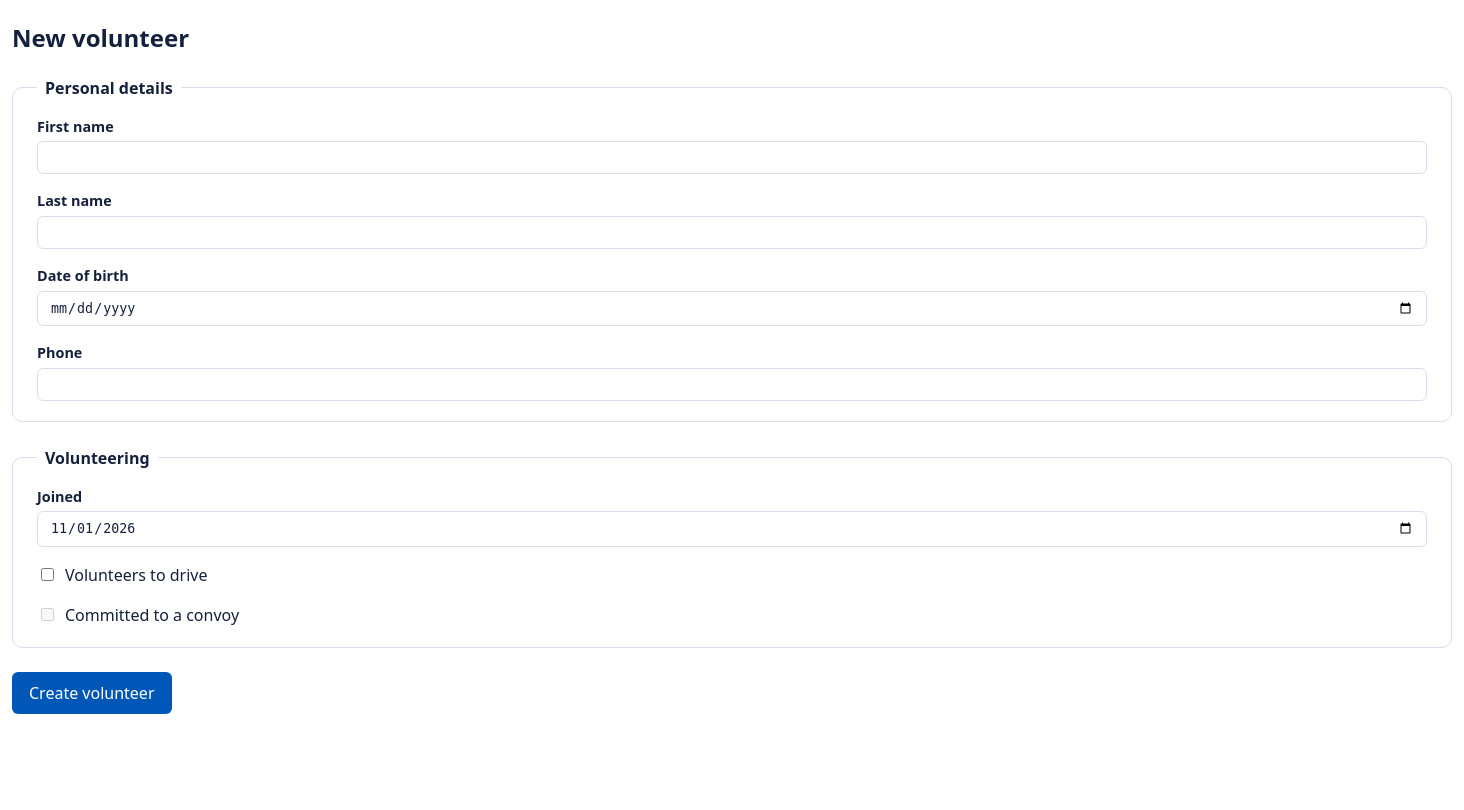
it: creates the volunteer and navigates to it
Type "Olena" into the field labelled "First name".
click(732, 158); type("Olena")  # box x1=37 y1=141 x2=1427 y2=174
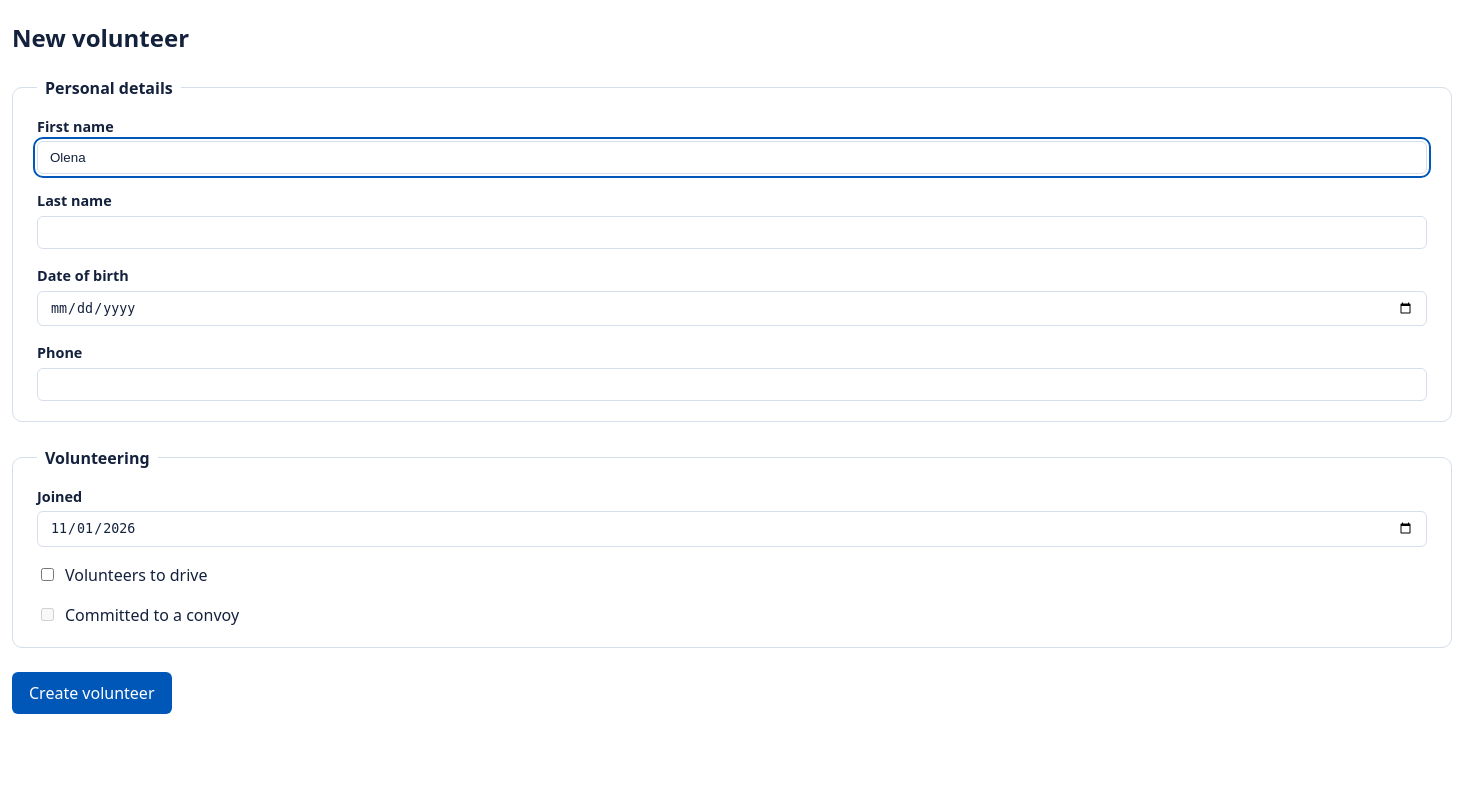
Type "Kovalenko" into the field labelled "Last name".
click(732, 232); type("Kovalenko")  # box x1=37 y1=216 x2=1427 y2=249
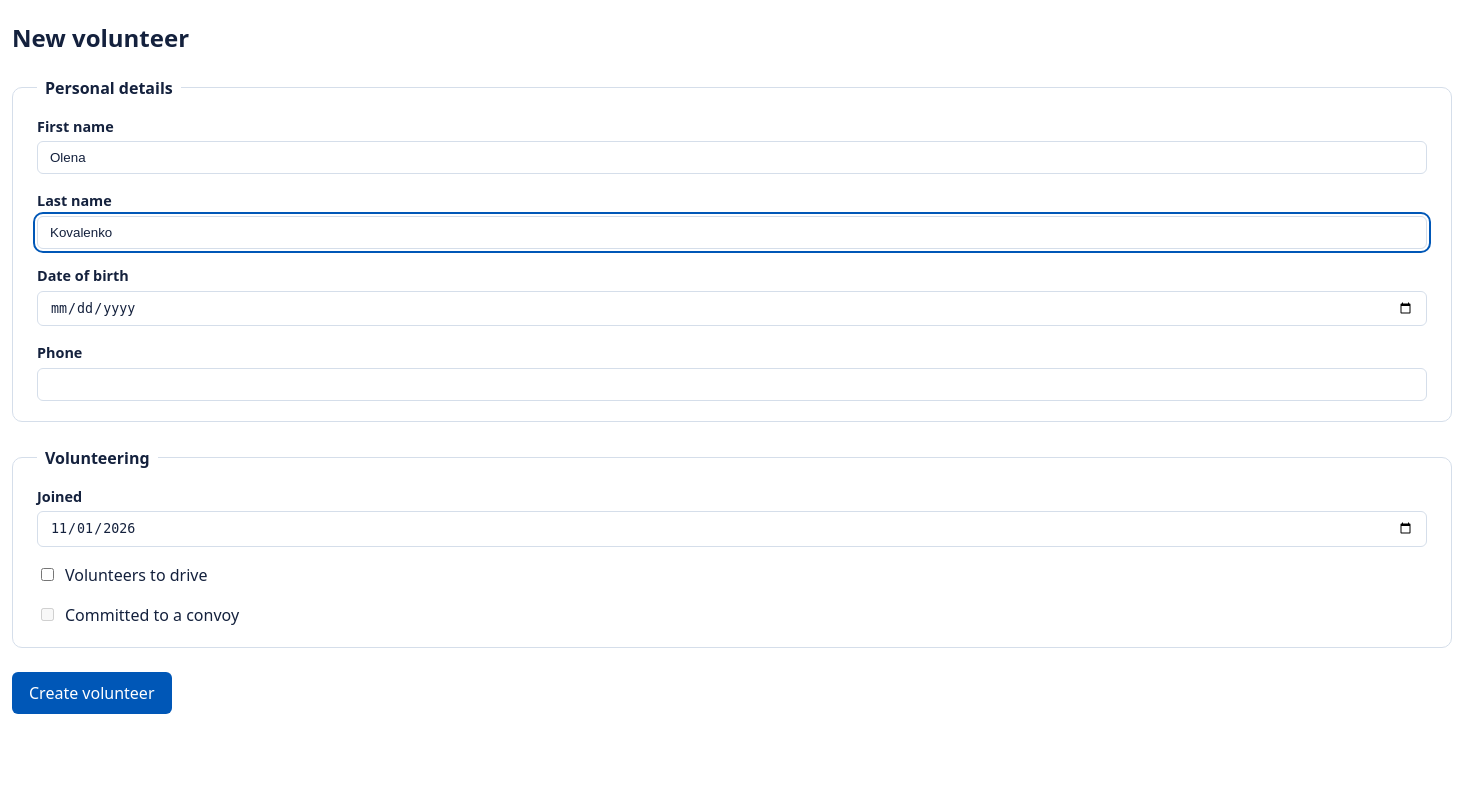
Type "1991-03-04" into the date field labelled "Date of birth".
click(732, 308); type("1991-03-04")  # box x1=37 y1=291 x2=1427 y2=326
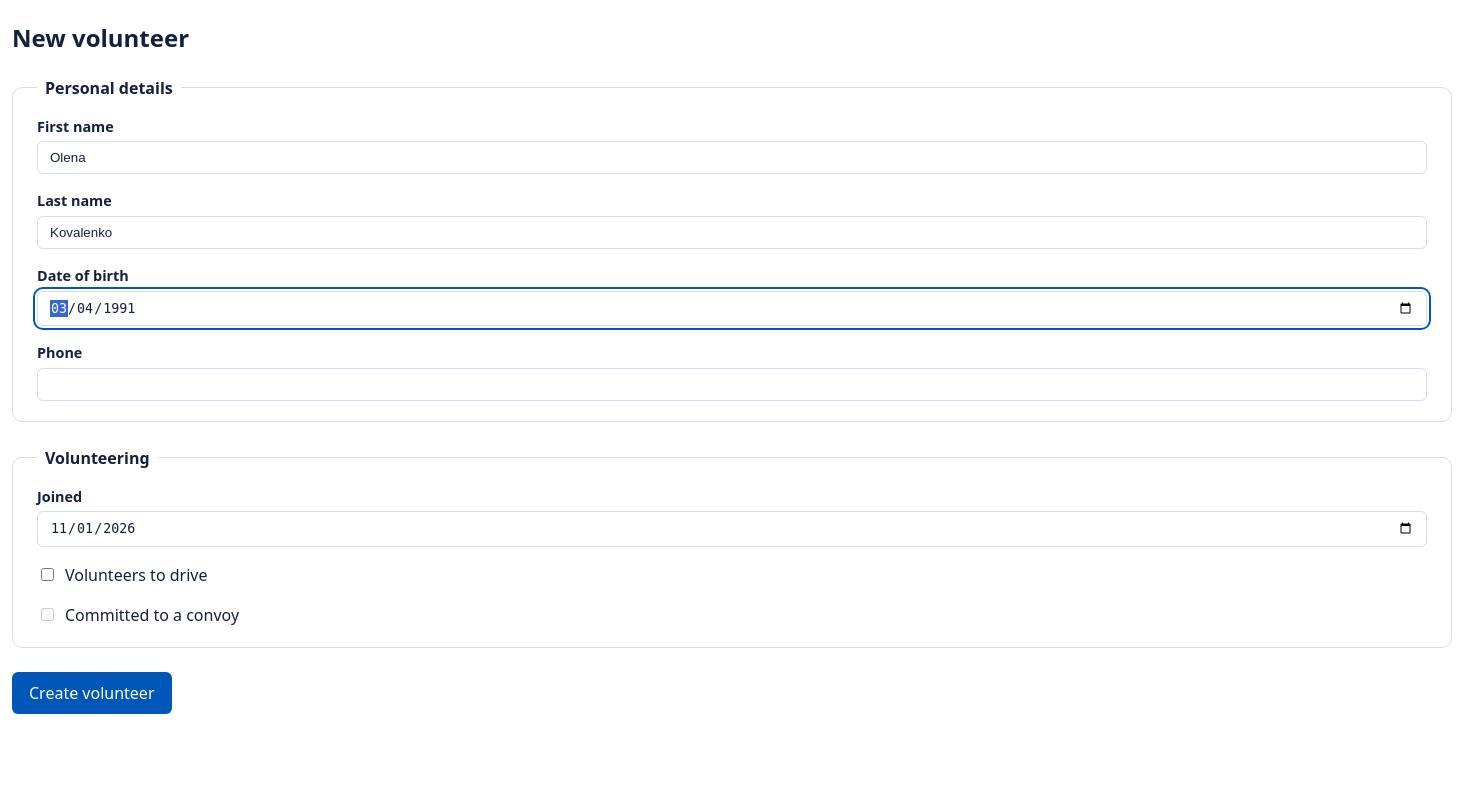
Click the button "Create volunteer".
click(92, 692)  # box x1=12 y1=672 x2=172 y2=714
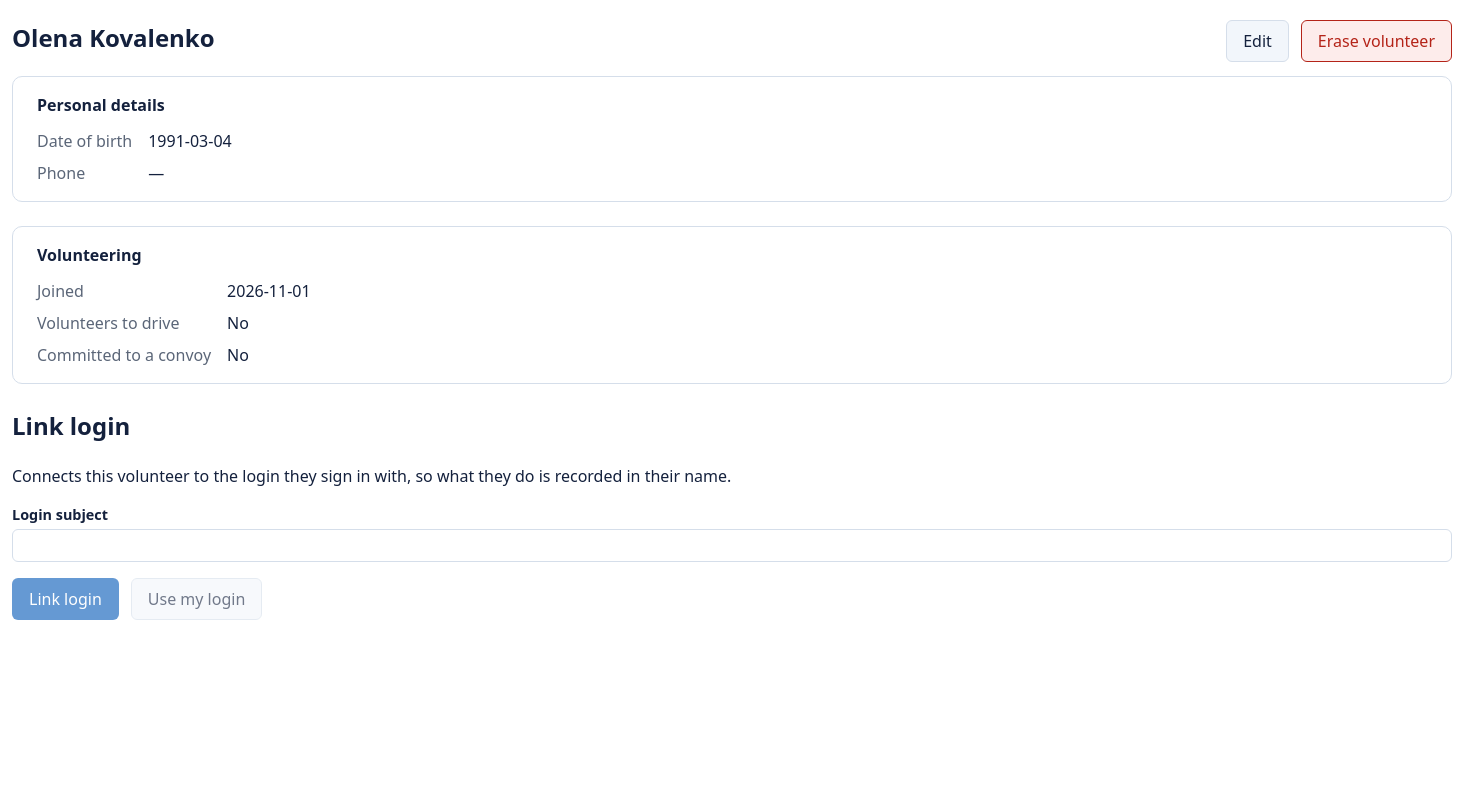
Now the heading "Olena Kovalenko" is shown, box x1=12 y1=20 x2=215 y2=56
